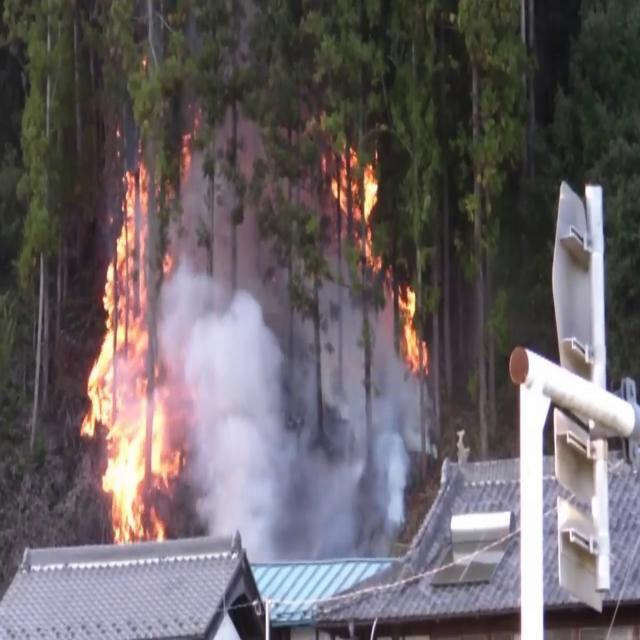Fire: (78, 154, 178, 544), (328, 134, 383, 264), (394, 266, 428, 378)
Smoke: (154, 244, 426, 586)
